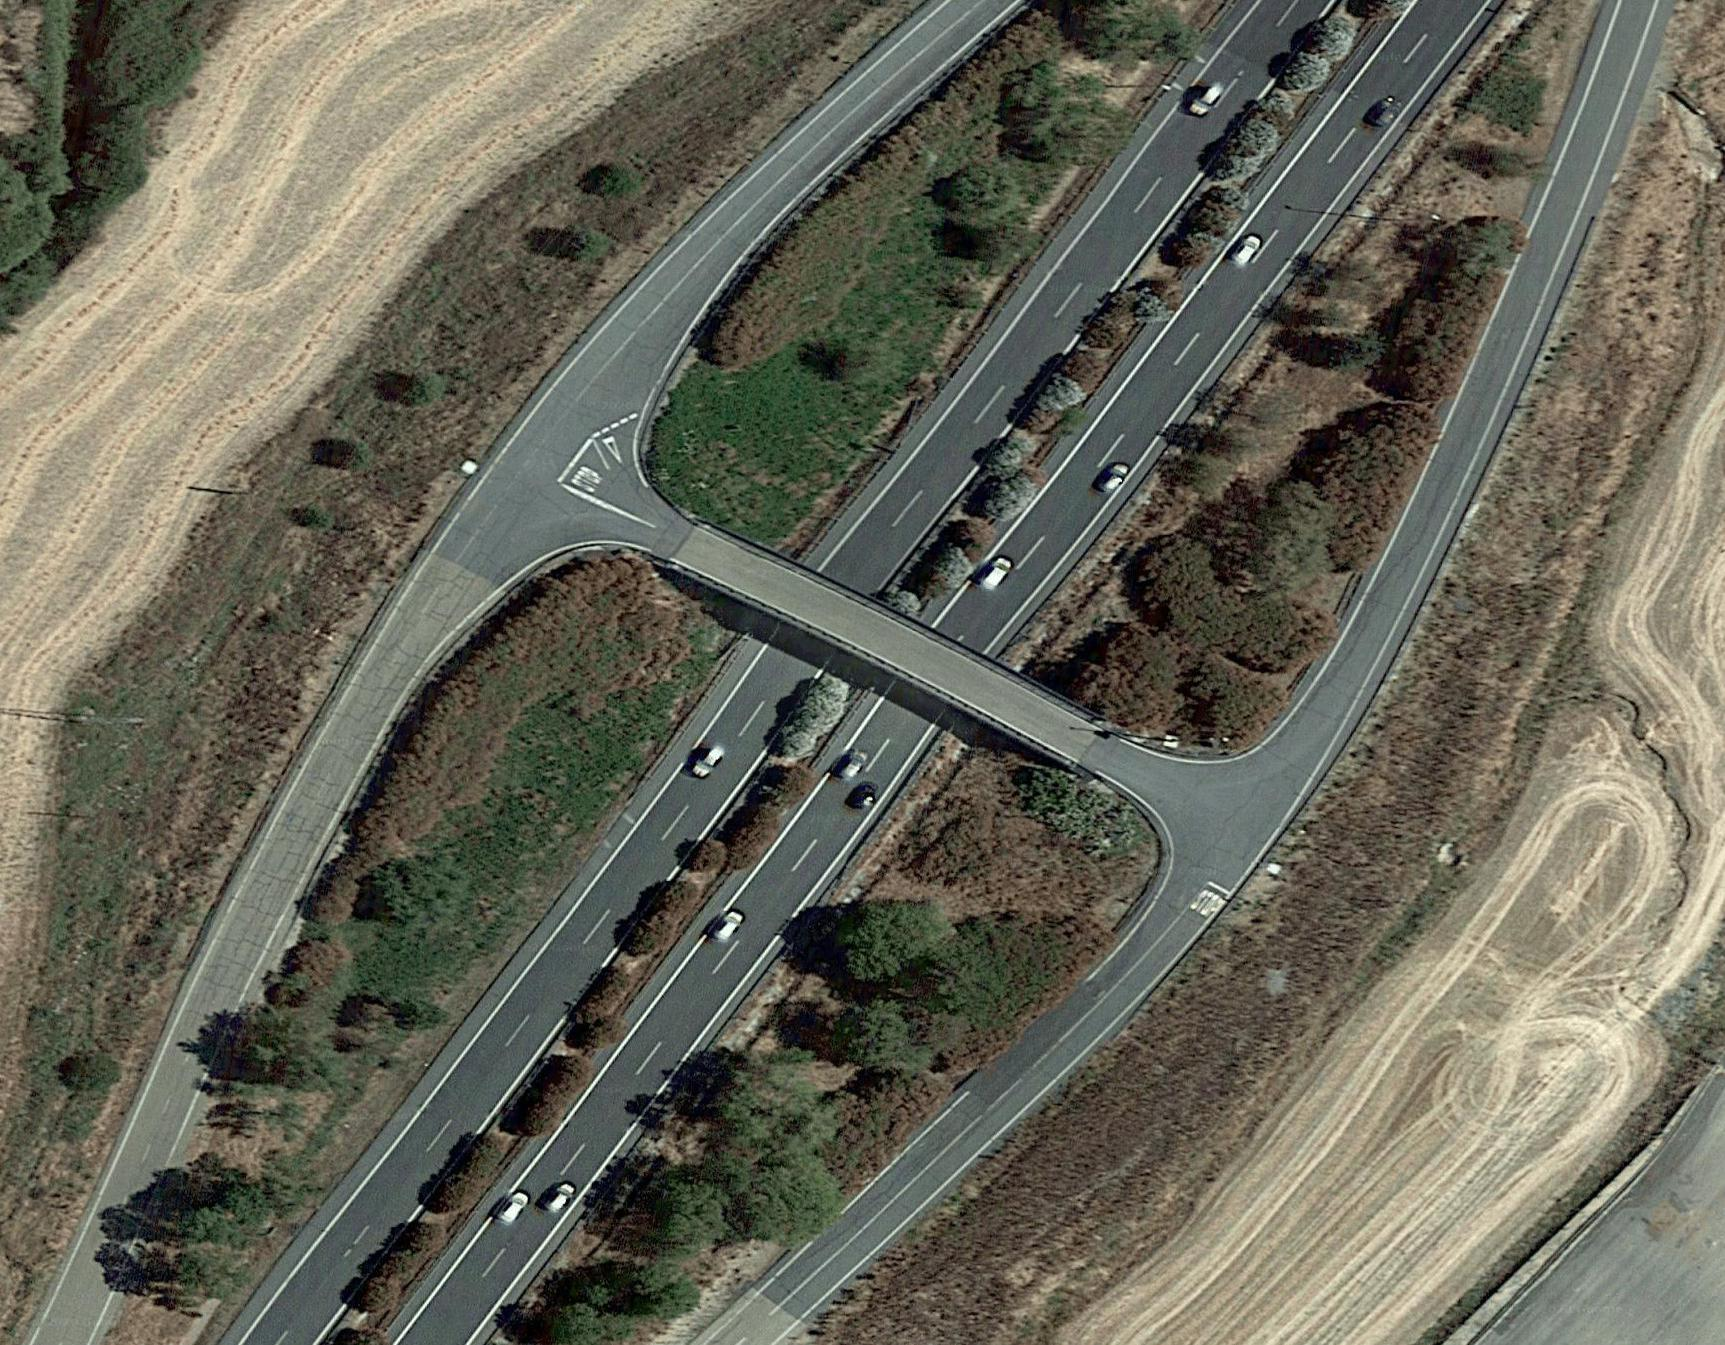bridge: (748, 533, 1010, 754)
small-vehicle: (1095, 460, 1131, 505), (1185, 78, 1224, 119), (708, 908, 748, 948), (687, 745, 728, 780), (848, 781, 877, 813)
